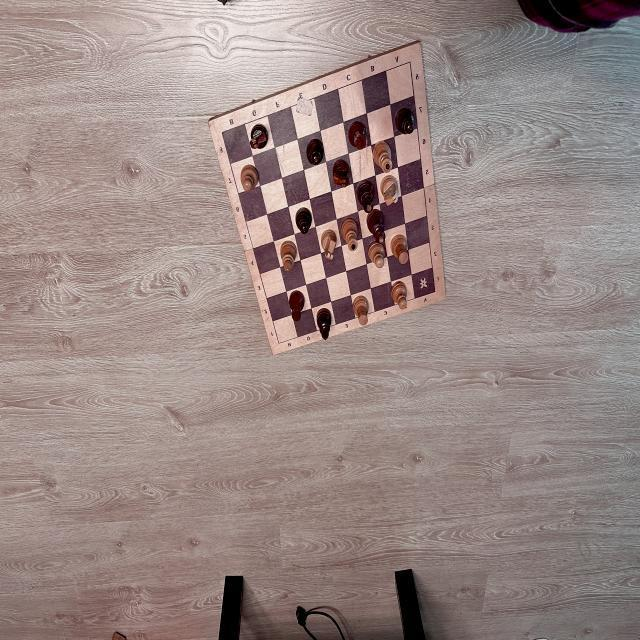chess-table-corners: (276, 340, 282, 347), (408, 58, 412, 66), (220, 128, 224, 136), (433, 290, 437, 294)
